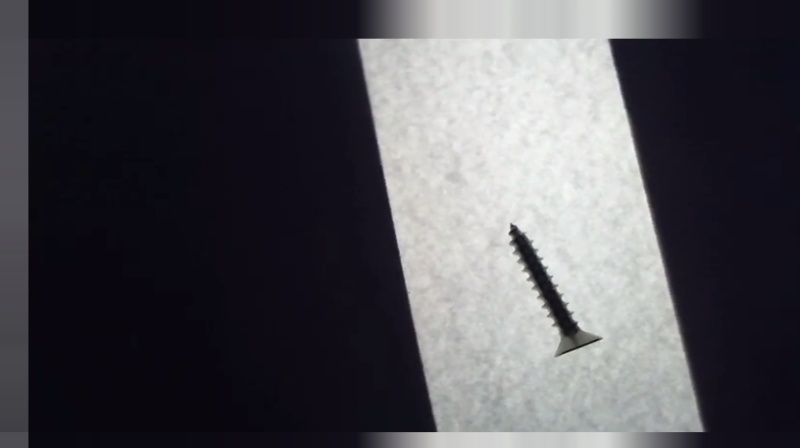S001: (504, 219, 607, 362)
